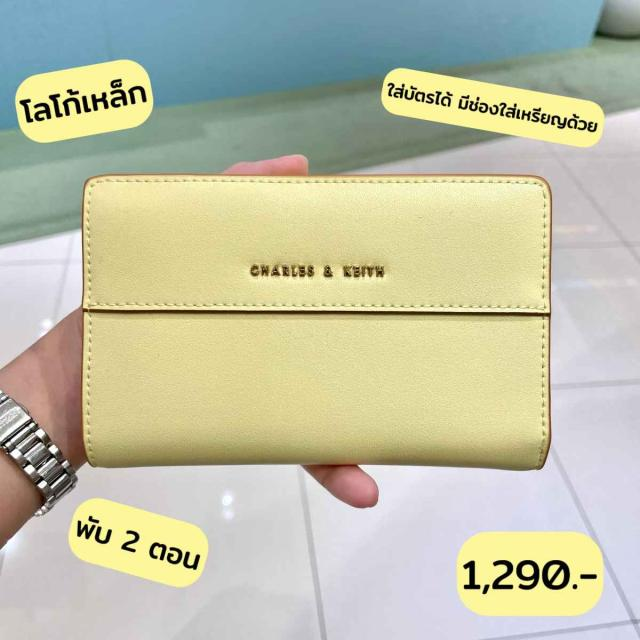handbag: (83, 141, 549, 501)
